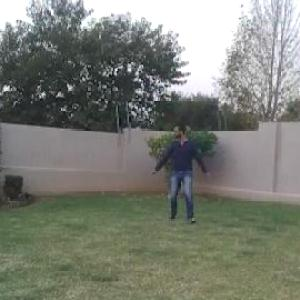land: (144, 105, 228, 239)
